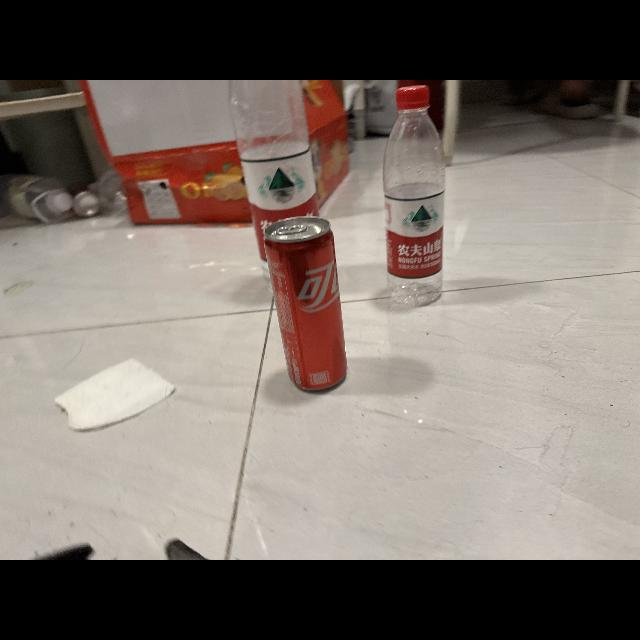Cola: (259, 215, 361, 398)
